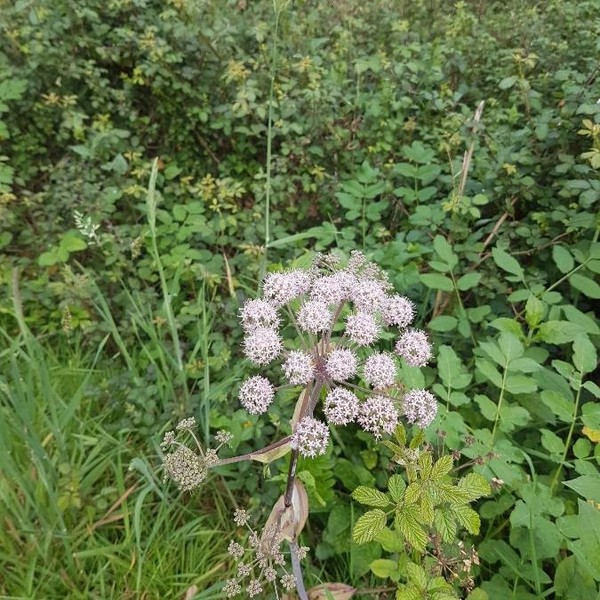obstacle: (182, 219, 488, 592), (105, 28, 535, 208), (30, 253, 208, 577)
